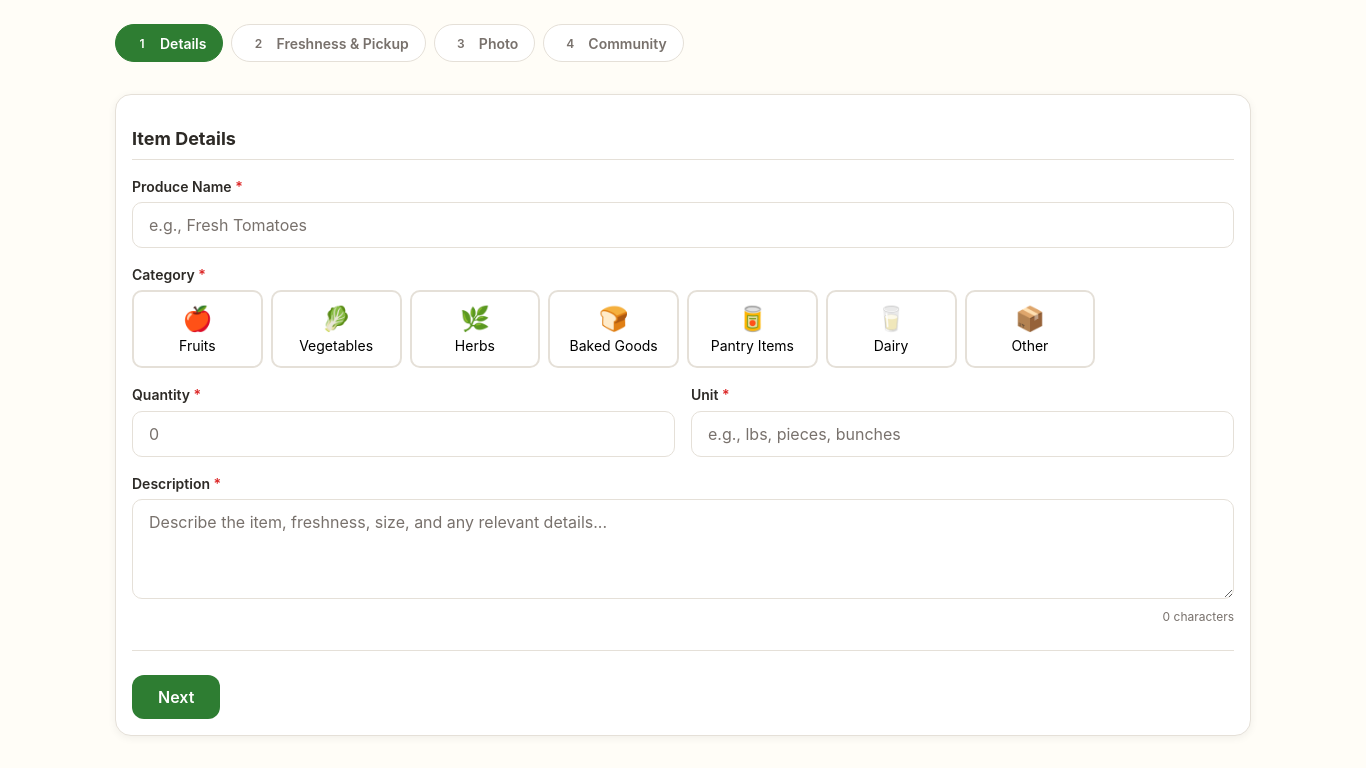
it: CreateListing › step navigation › can navigate back to previous step
(page scrolled)
Click the button "Next" at (176, 697), box x1=132 y1=675 x2=220 y2=719
(page scrolled)
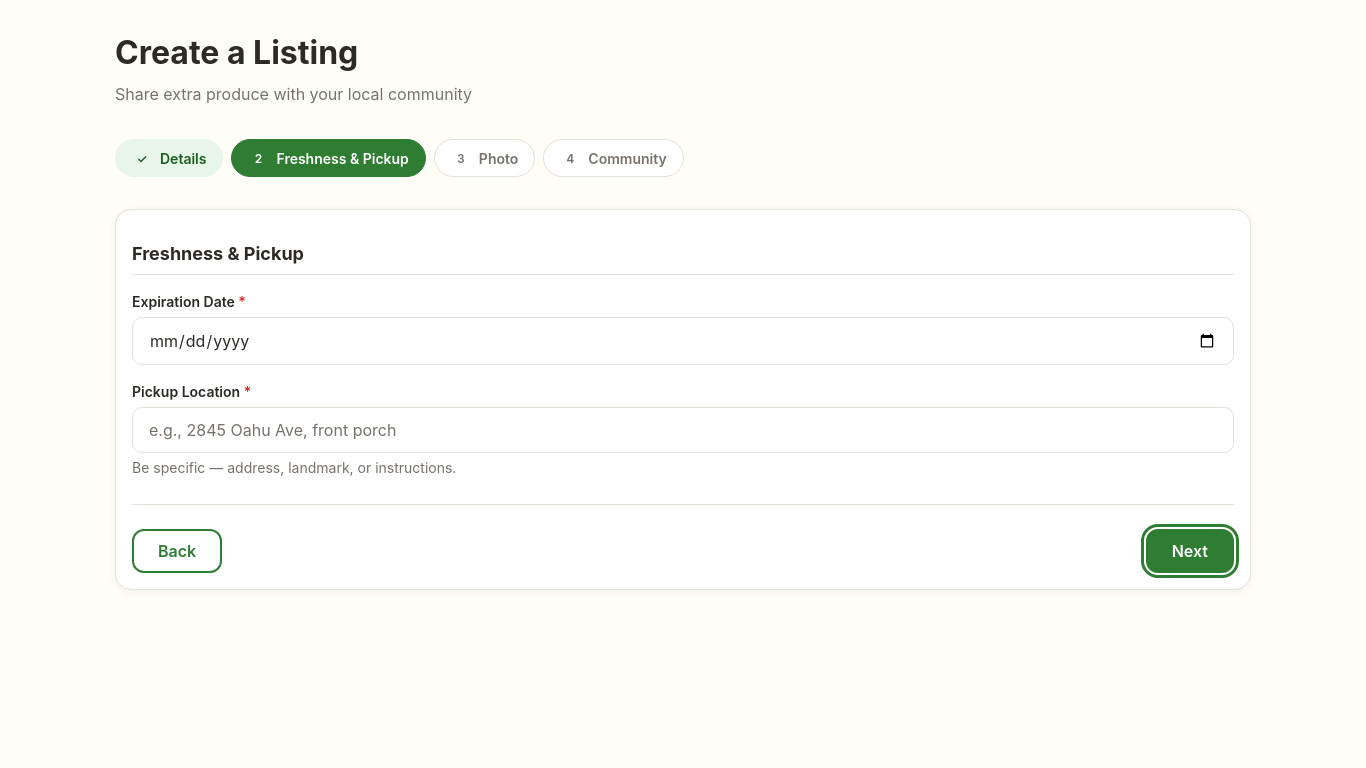
Click the button "Back" at (177, 551), box x1=132 y1=529 x2=222 y2=573
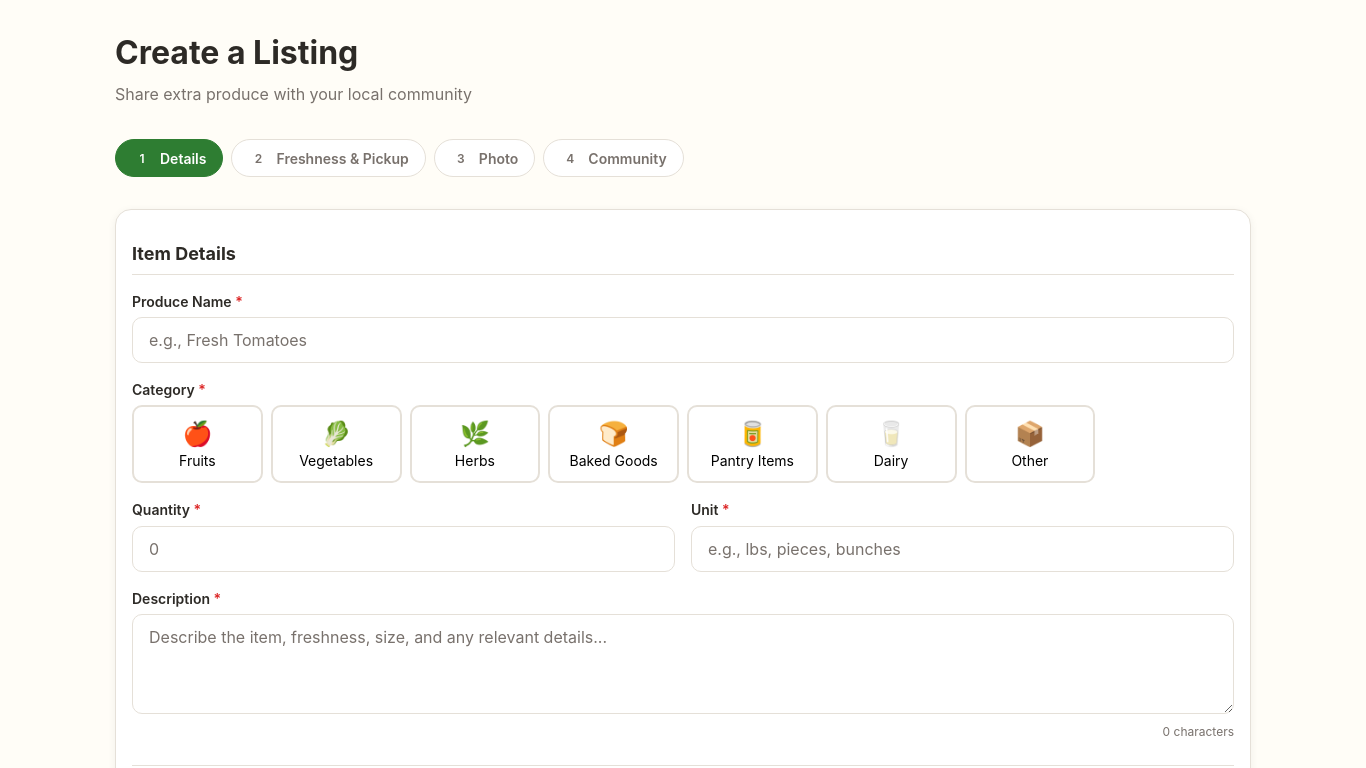
Check: the field labelled "Produce Name *" is shown, box x1=132 y1=317 x2=1234 y2=363
